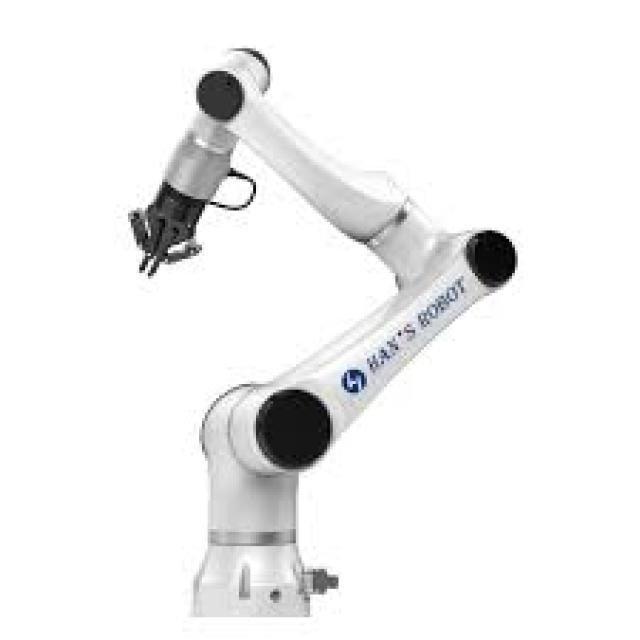Robotic-arm: (118, 39, 523, 622)
